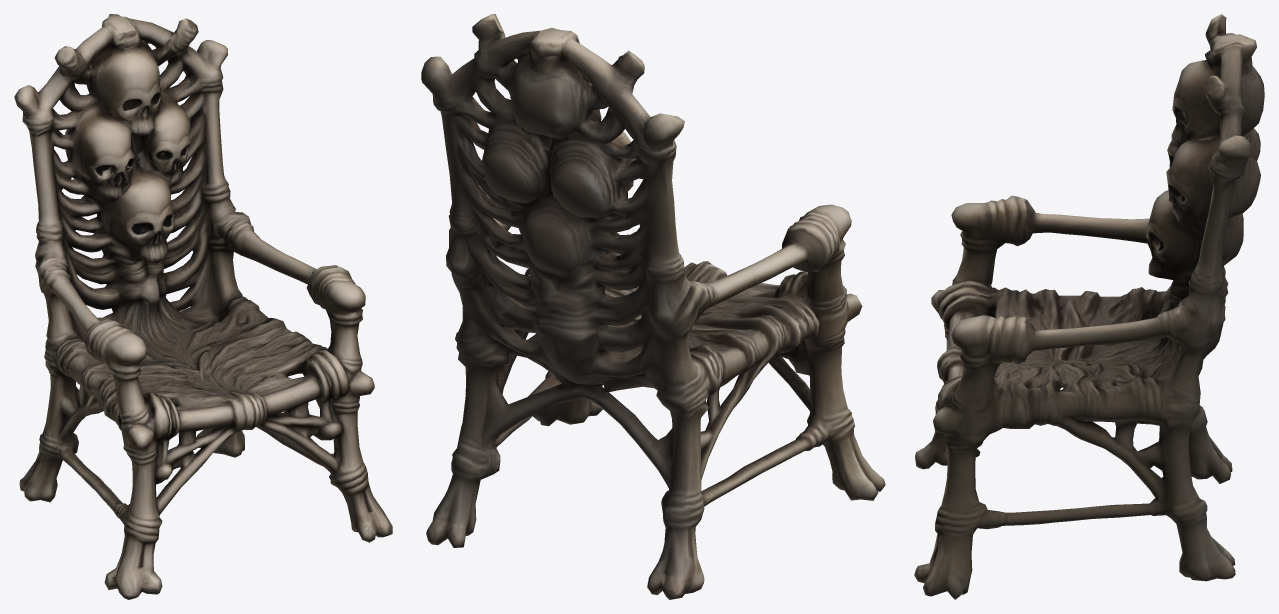
File: ossuary_bone_throne.glb
3 views of the same model, side by side, from view 1: azimuth 30°, elevation 25°; view 2: azimuth 150°, elevation 25°; view 3: azimuth 270°, elevation 25° (orthographic). The views are drawn at different scales.
Bounding box in the file's own units: 1.31 × 2 × 1.3.
1 material, 1 textured.
